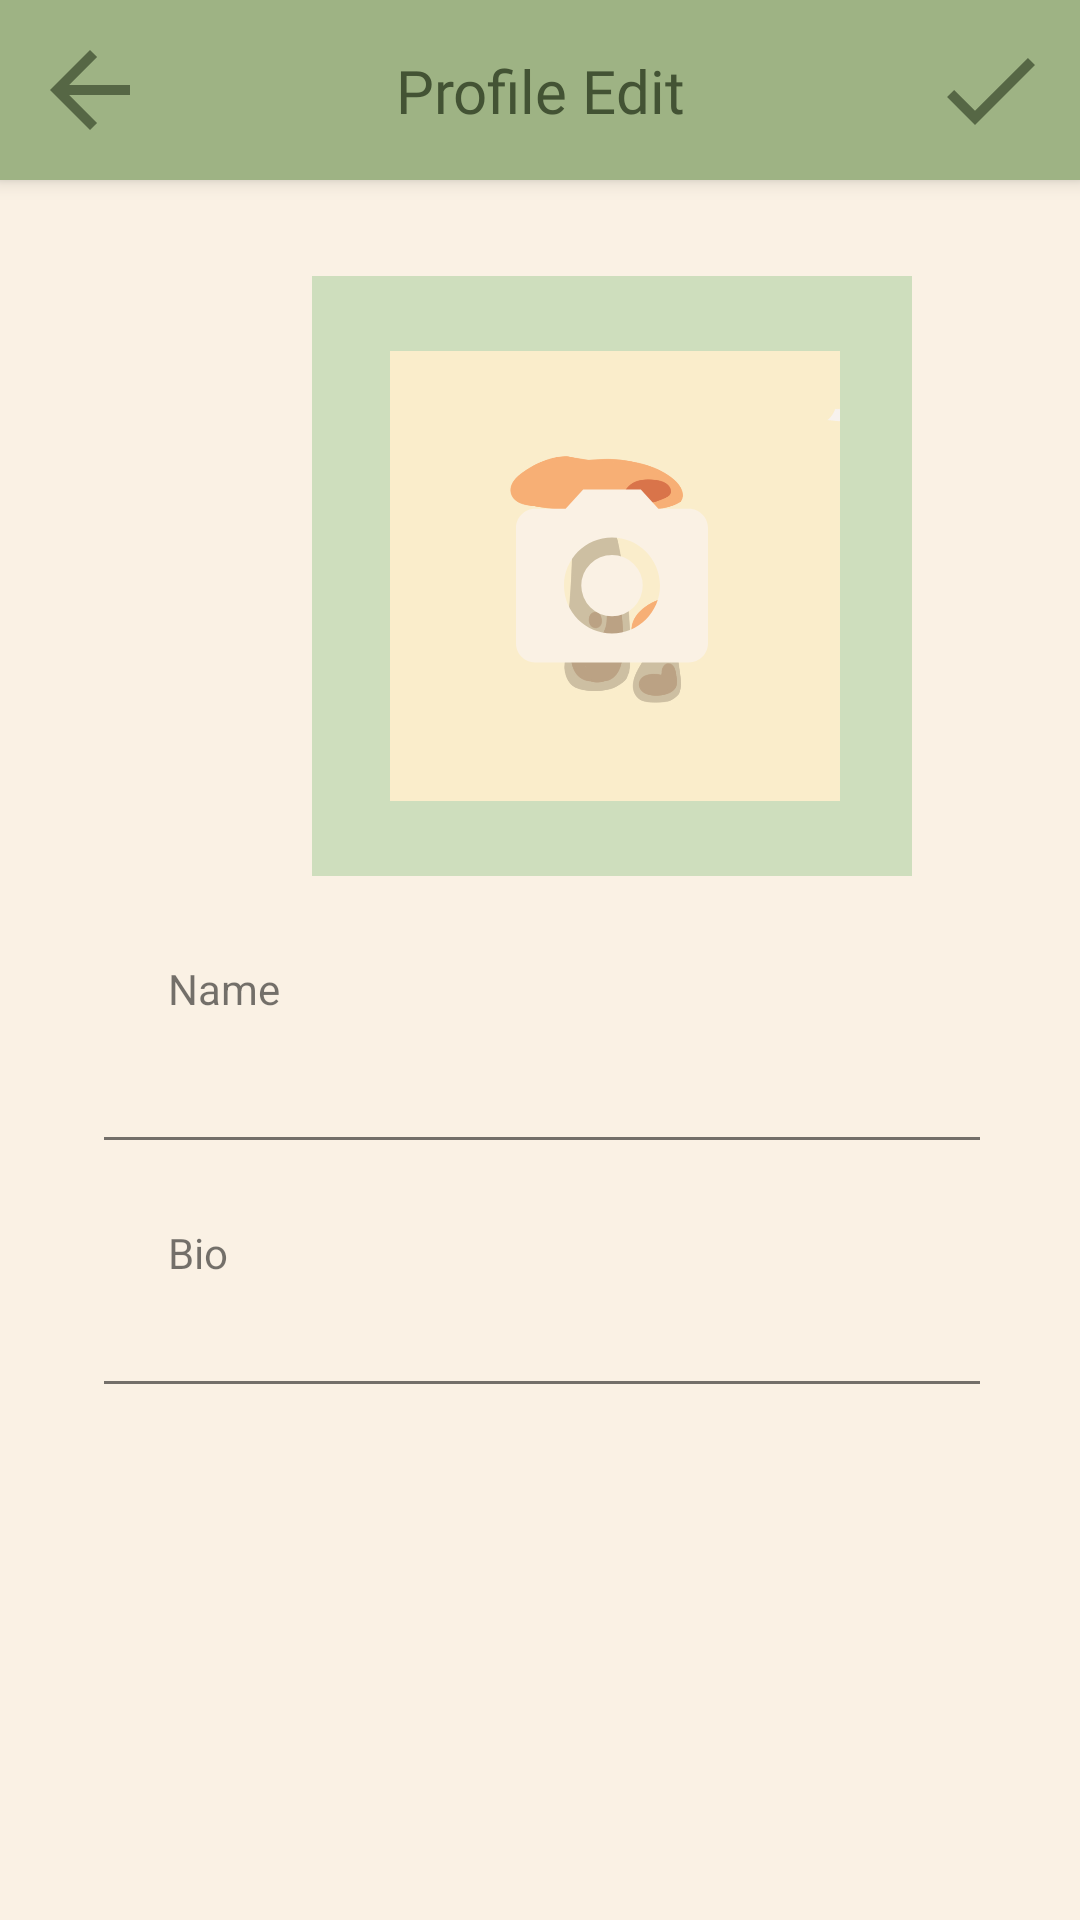

Icon bounding boxes for this 1080px×1920px phone screenshot, format (x1, y1, x2, y2):
Back Button: (50, 50, 130, 130)
Save Button: (947, 58, 1035, 125)
